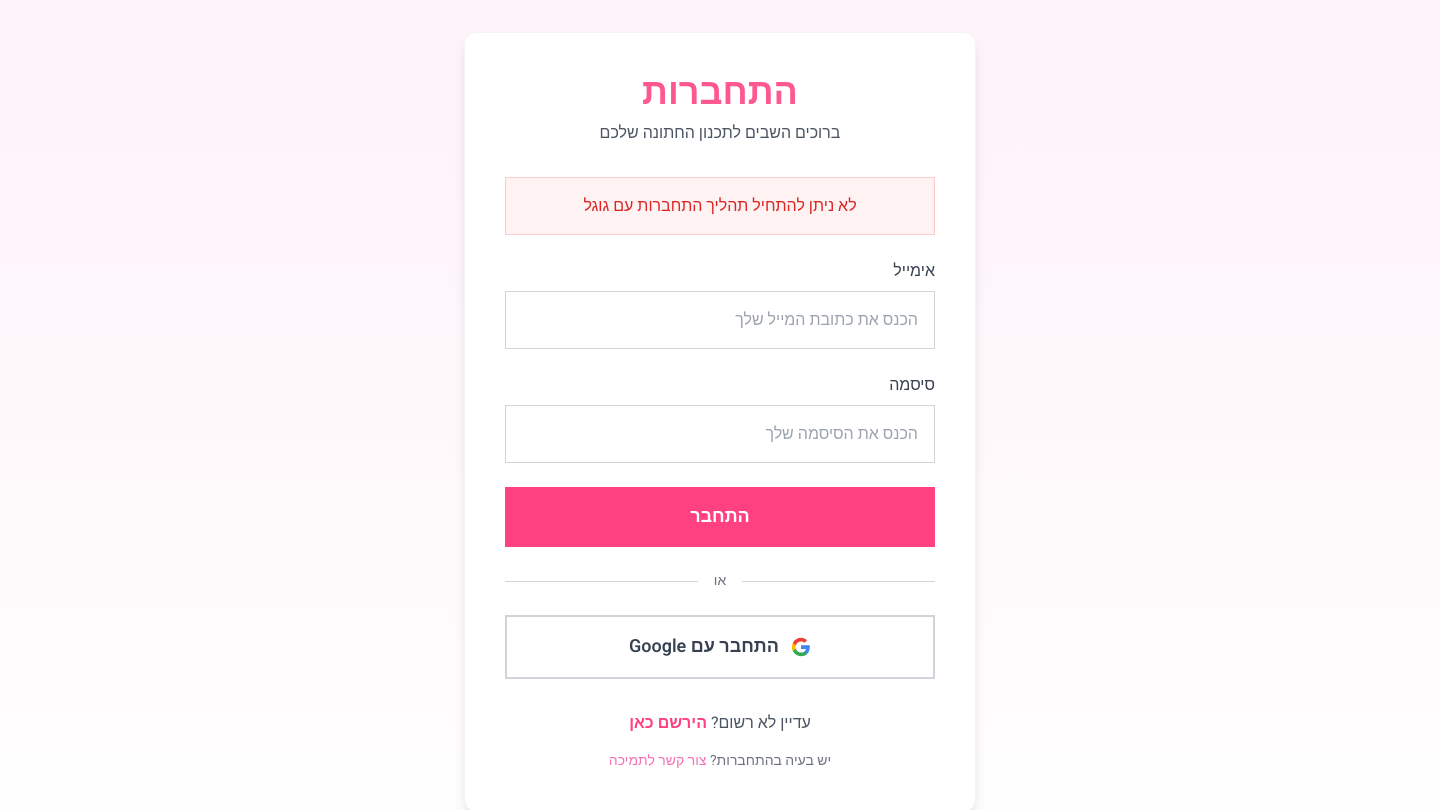
Test: Login Page › handles form submission with loading state
Type "test@example.com" into the field labelled "אימייל".
click(720, 320); type("test@example.com")  # box [505,291,935,349]
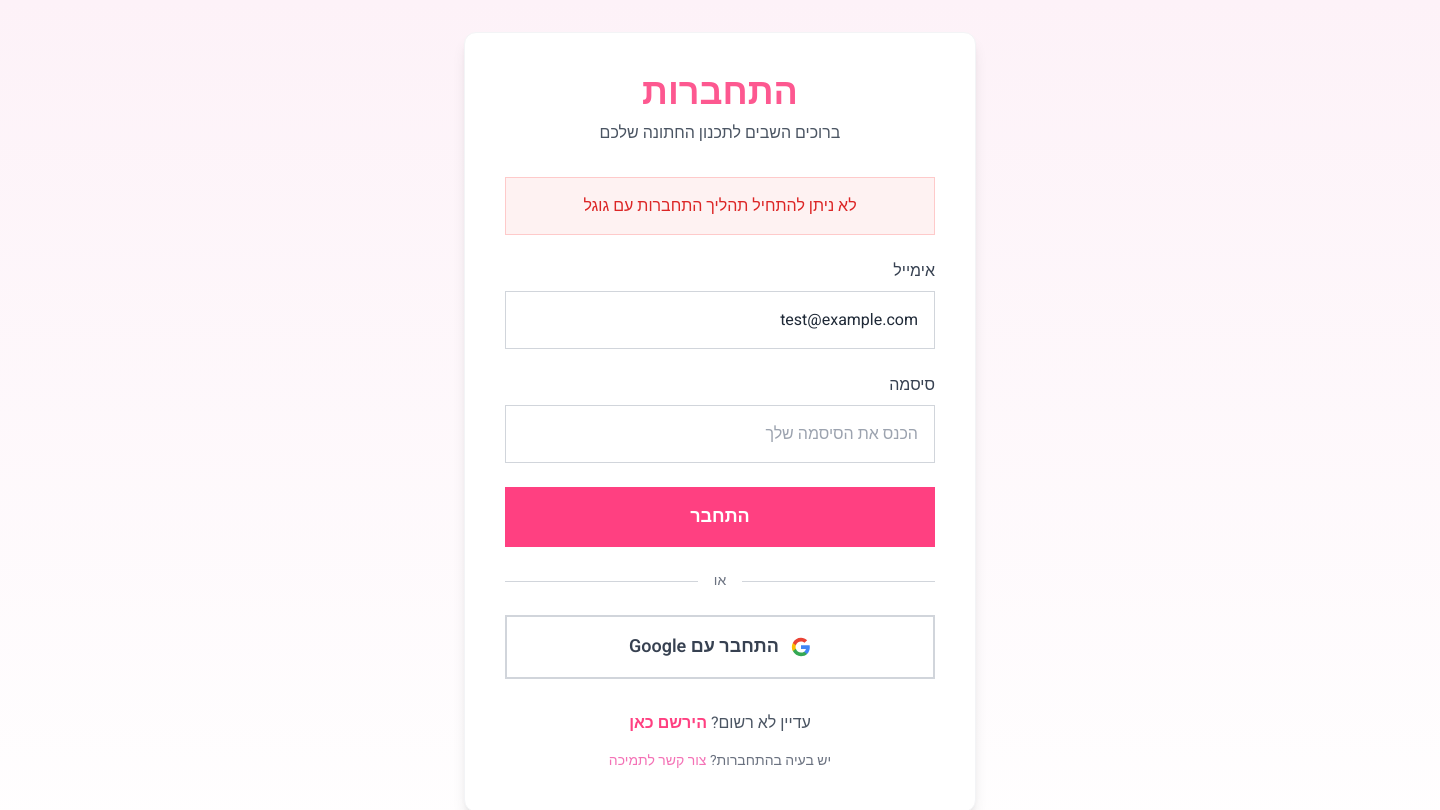
Type "password123" into the password field labelled "סיסמה".
click(720, 434); type("password123")  # box [505,405,935,463]
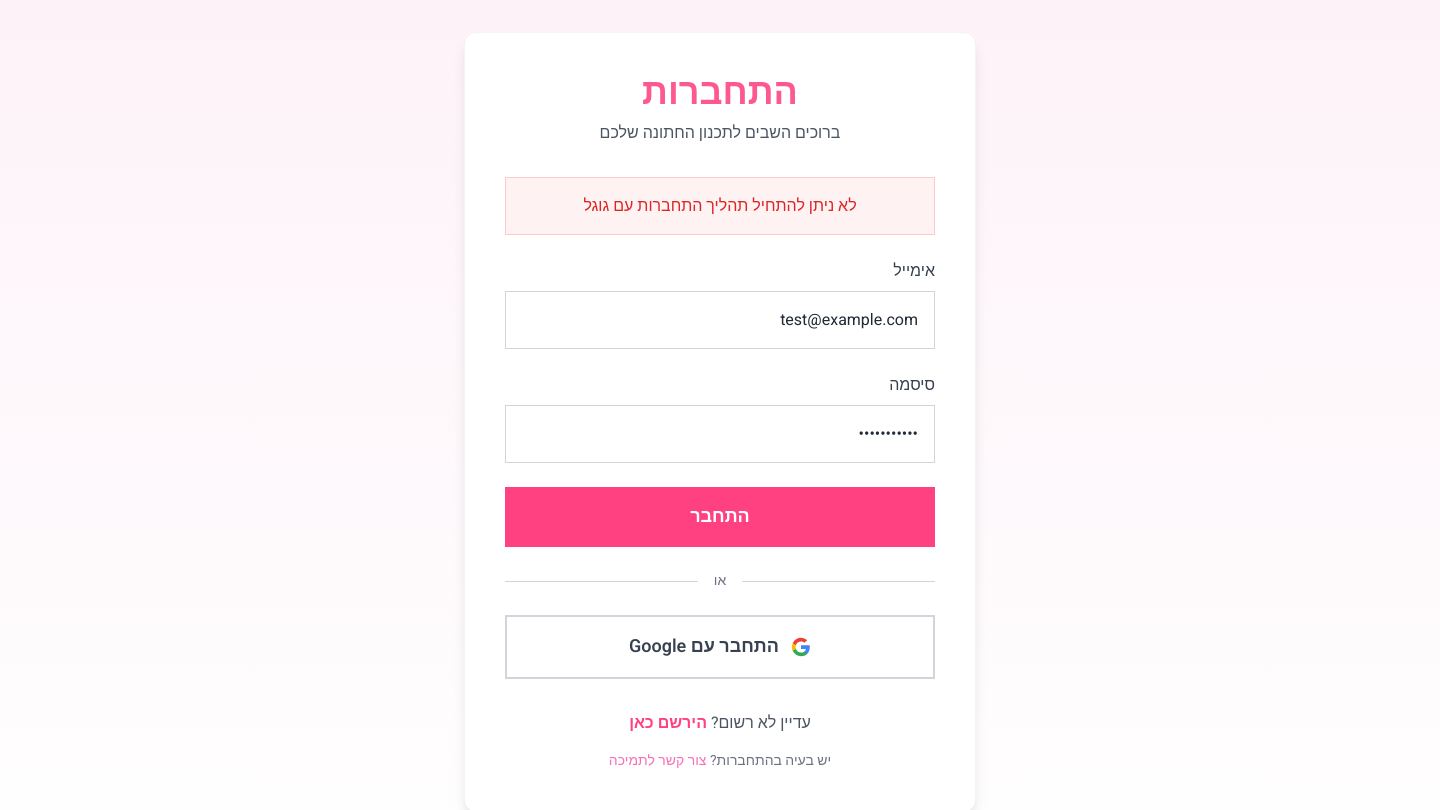
Click the button "התחבר".
click(720, 517)  # box [505,487,935,547]
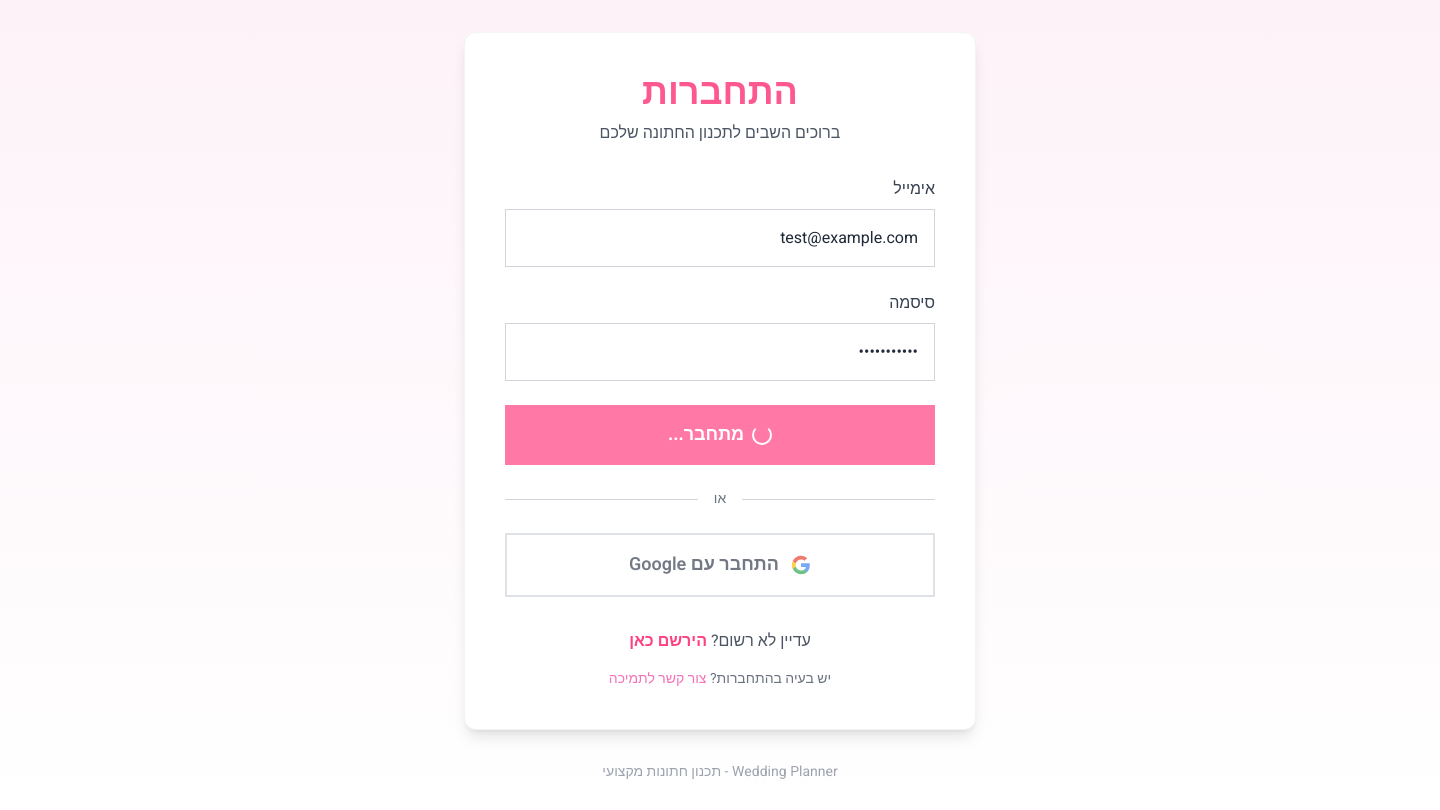
Check: the text "מתחבר..." is shown, box [668,421,772,448]
Check: the button "מתחבר..." is disabled, box [505,405,935,465]
